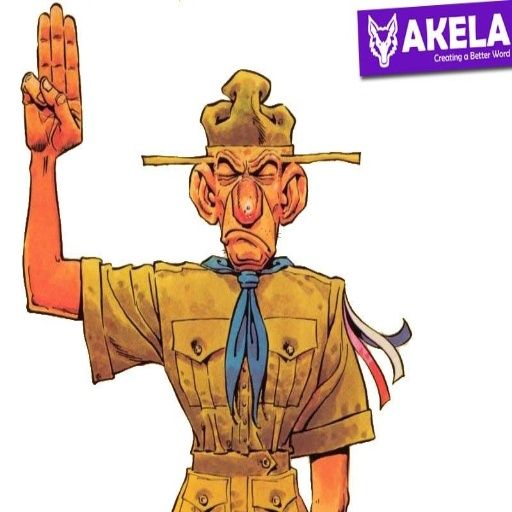hand: (21, 43, 76, 145)
